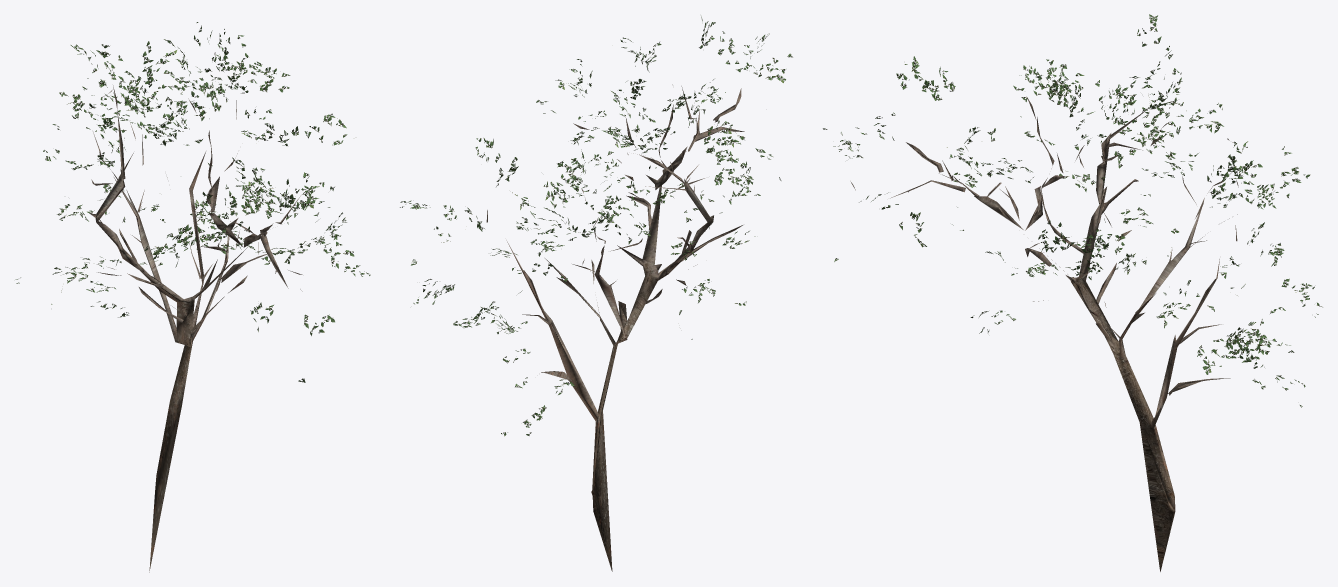
File: tree_small_02_lod1.glb
3 views of the same model, side by side, from view 1: azimuth 30°, elevation 25°; view 2: azimuth 150°, elevation 25°; view 3: azimuth 270°, elevation 25° (orthographic). The views are drawn at different scales.
Parts seen in each view (by area): view 1: drivinglab.hero.tree.lod1-part1, drivinglab.hero.tree.lod1-part2, drivinglab.hero.tree.lod1-part0; view 2: drivinglab.hero.tree.lod1-part1, drivinglab.hero.tree.lod1-part2, drivinglab.hero.tree.lod1-part0; view 3: drivinglab.hero.tree.lod1-part1, drivinglab.hero.tree.lod1-part2, drivinglab.hero.tree.lod1-part0.
Part boxes in pixels (x1,y1,x2,y2): drivinglab.hero.tree.lod1-part1: [15, 22, 370, 382]; drivinglab.hero.tree.lod1-part2: [90, 152, 260, 572]; drivinglab.hero.tree.lod1-part0: [91, 52, 302, 322]; drivinglab.hero.tree.lod1-part1: [400, 16, 792, 436]; drivinglab.hero.tree.lod1-part2: [506, 146, 713, 571]; drivinglab.hero.tree.lod1-part0: [486, 84, 744, 381]; drivinglab.hero.tree.lod1-part1: [823, 14, 1322, 407]; drivinglab.hero.tree.lod1-part2: [974, 133, 1219, 571]; drivinglab.hero.tree.lod1-part0: [850, 77, 1238, 395].
Bounding box in the file's own units: 2.73 × 4.48 × 3.9.
Materials: 3 (3 with a texture image).
